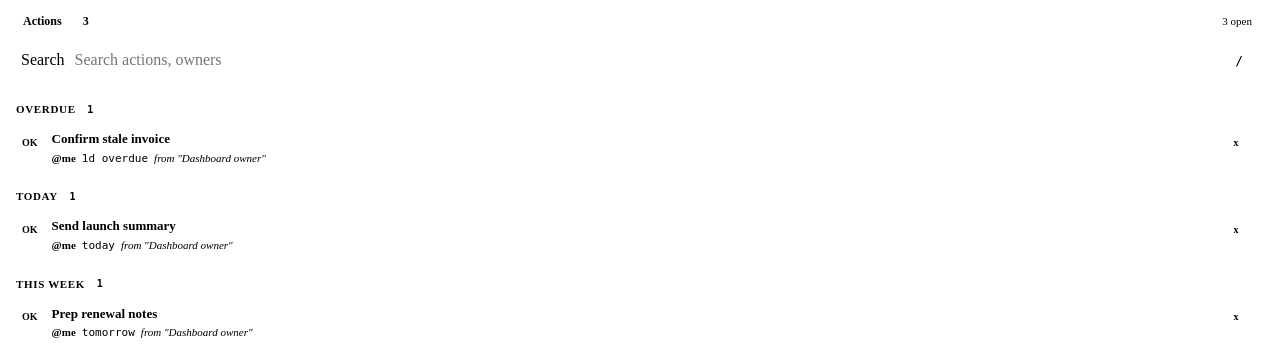
Test: ActionsList › filters actions by visible due labels
Type "today" into the field named "Search actions" at (650, 60), box left=72, top=50, right=1227, bottom=70
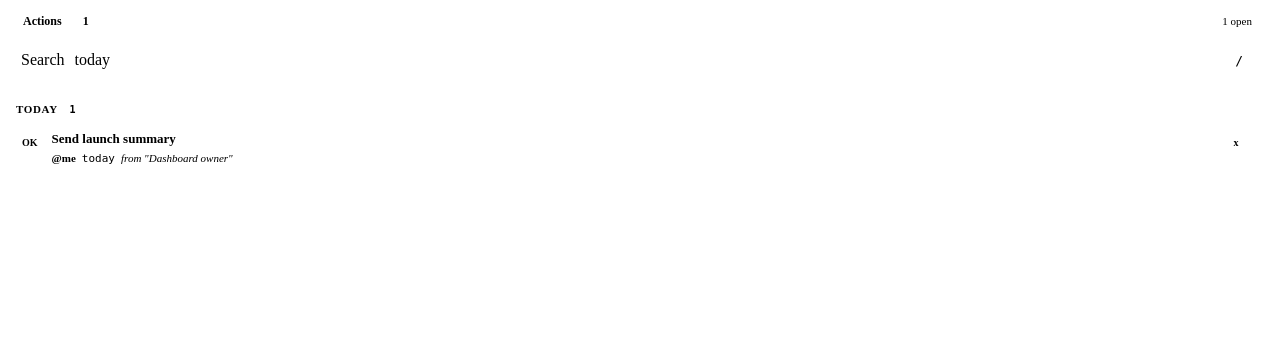
Now the text "Send launch summary" is shown, box left=52, top=131, right=176, bottom=146
Now the text "Confirm stale invoice" is gone
Now the text "Prep renewal notes" is gone
Replace the text in the field named "Search actions" with "1d overdue" at (650, 60), box left=72, top=50, right=1227, bottom=70
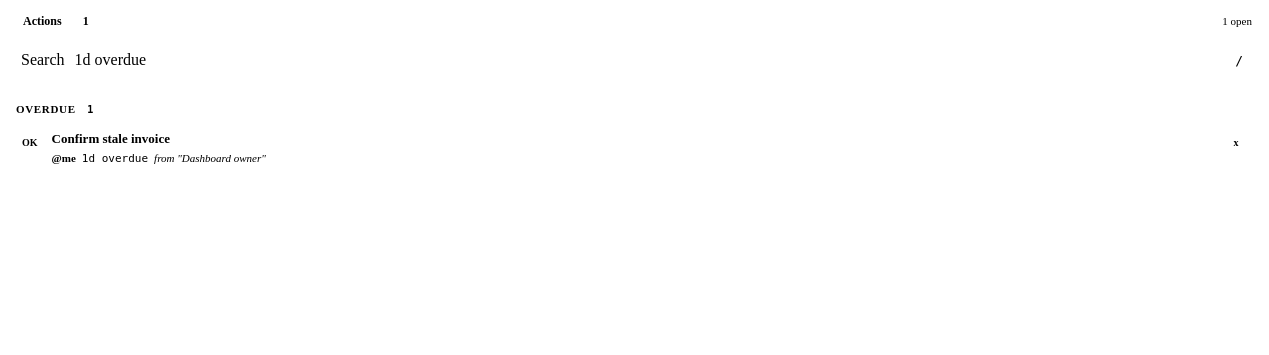
Now the text "Confirm stale invoice" is shown, box left=52, top=131, right=170, bottom=146
Now the text "Send launch summary" is gone
Replace the text in the field named "Search actions" with "tomorrow" at (650, 60), box left=72, top=50, right=1227, bottom=70
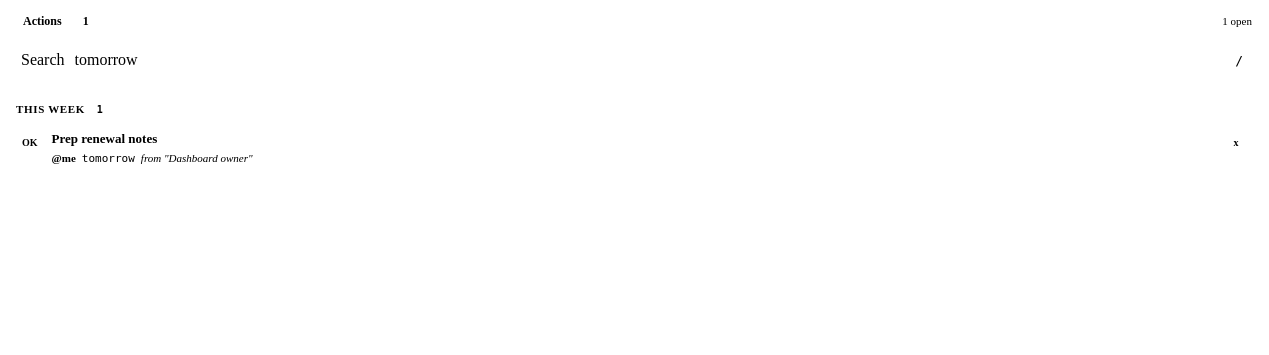
Now the text "Prep renewal notes" is shown, box left=52, top=131, right=157, bottom=146
Now the text "Confirm stale invoice" is gone
